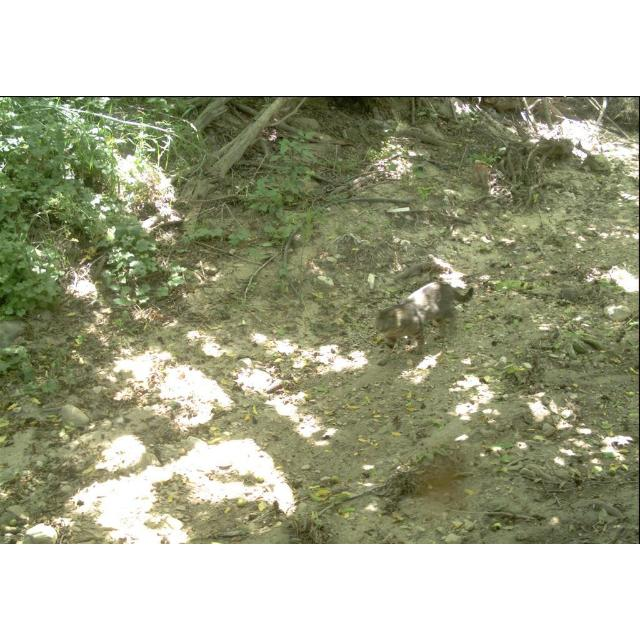animals: (372, 280, 476, 370)
